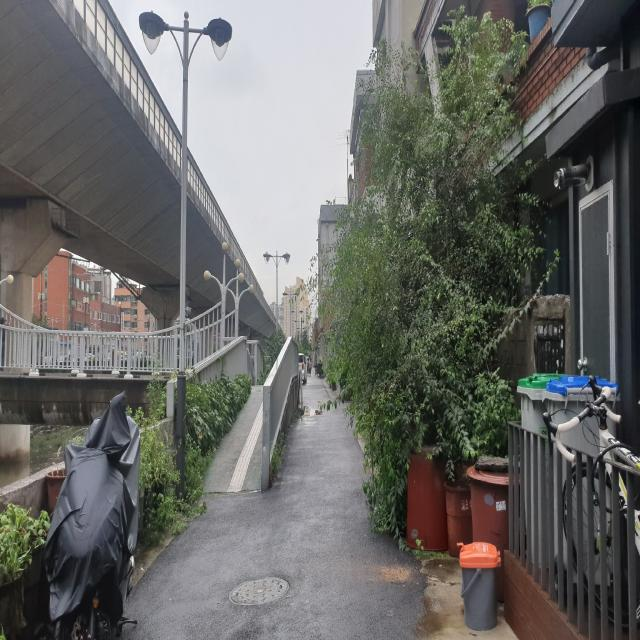motorbike: (44, 389, 140, 640)
